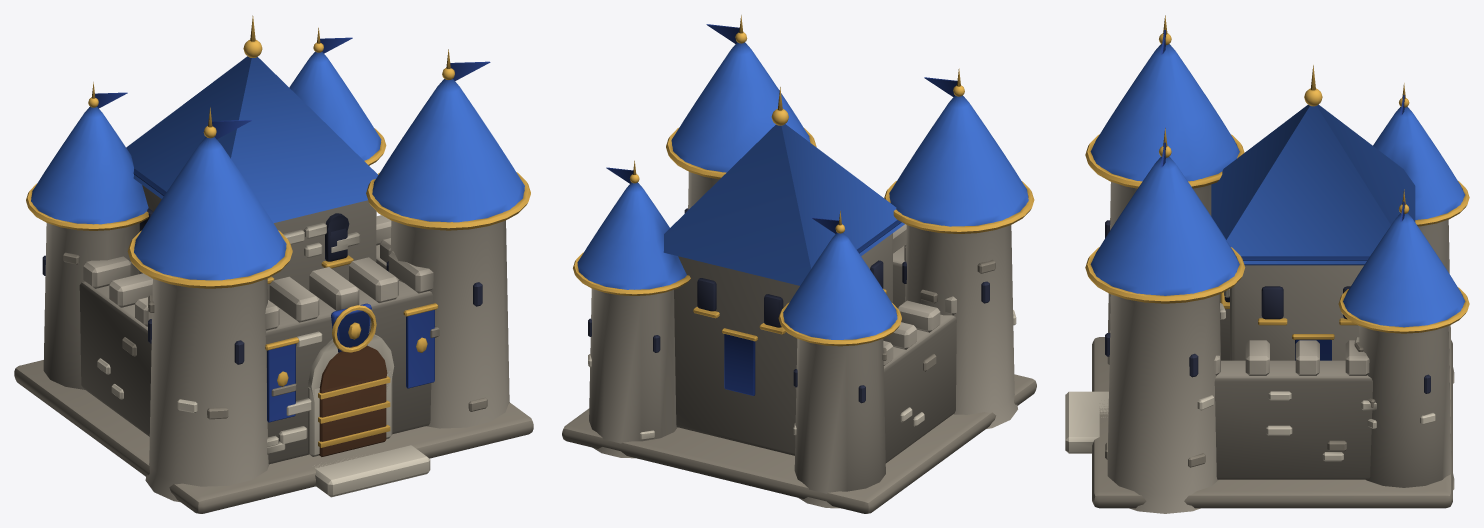
File: castle.glb
The picture shows the model from 3 angles, left to right: view 1: azimuth 30°, elevation 25°; view 2: azimuth 150°, elevation 25°; view 3: azimuth 270°, elevation 25°; orthographic projection. The views are drawn at different scales.
Parts seen in each view (by area): view 1: Castle; view 2: Castle; view 3: Castle.
Boxes of the visible parts, box(x1,y1,x2,y2) form: Castle: box(14, 15, 533, 513); Castle: box(562, 15, 1036, 513); Castle: box(1065, 15, 1469, 513).
Size of what is drawn, in the model's own units: 2.3 by 2.19 by 2.18.
1 material, 1 textured.
